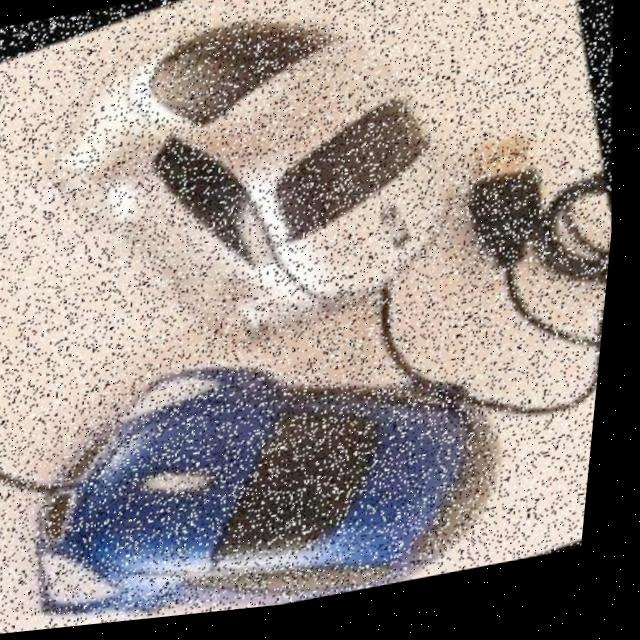mause: (0, 0, 497, 433), (0, 250, 547, 637)
